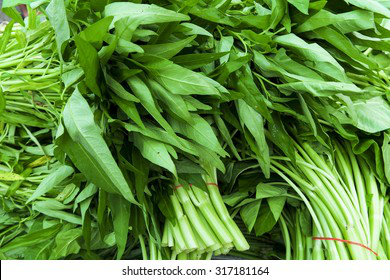Kangkung: (65, 11, 371, 239)
